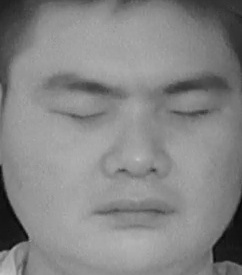blink: (51, 97, 105, 132), (167, 96, 213, 128)
mouth: (91, 190, 181, 239)
